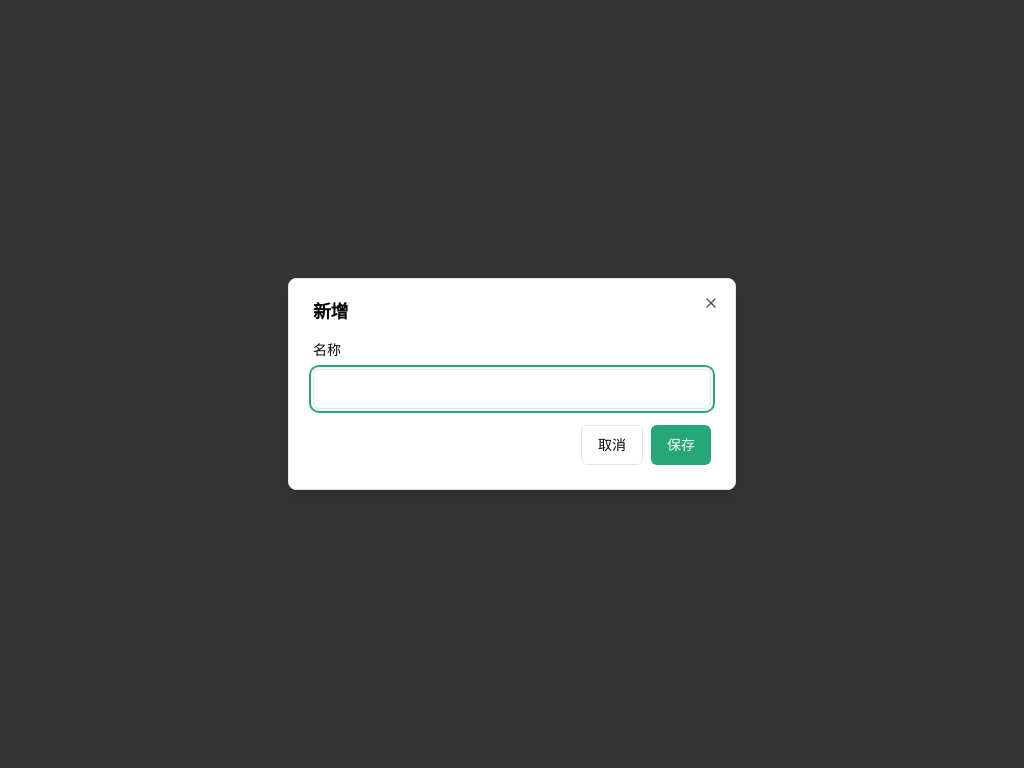
FormDialog › shows zod error message on invalid submit
Click the button "保存". click: (681, 445)
box: [651, 425, 711, 465]
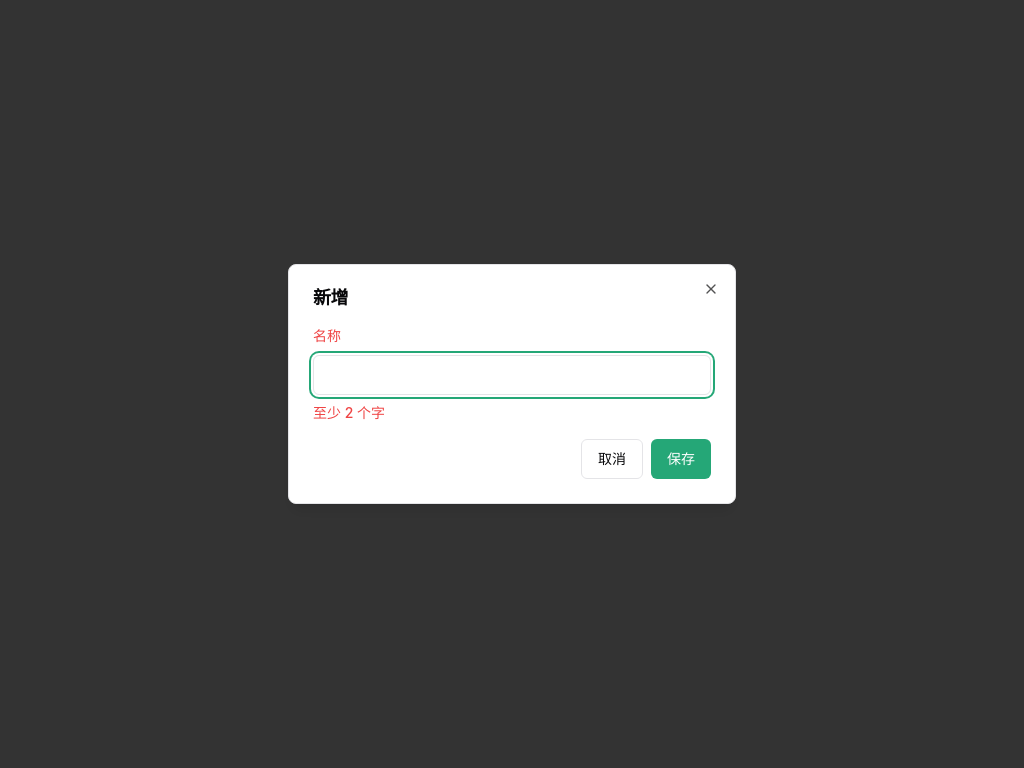
Check: the text "至少 2 个字" is shown, box [313, 404, 385, 421]
